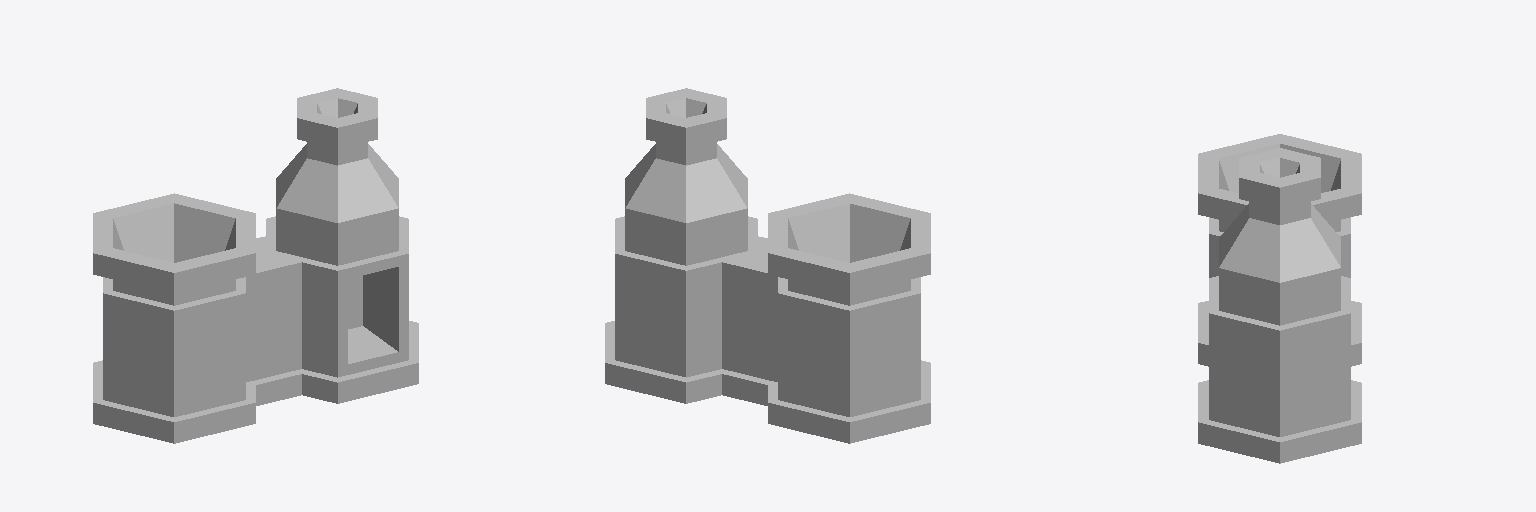
Rendered from radiant_furnace.obj.
3 views of the same model, side by side, from view 1: azimuth 30°, elevation 25°; view 2: azimuth 150°, elevation 25°; view 3: azimuth 270°, elevation 25° (orthographic).
Parts seen in each view (by area): view 1: Cylinder; view 2: Cylinder; view 3: Cylinder.
Boxes of the visible parts, x1=… form: Cylinder: x1=93, y1=88, x2=418, y2=443; Cylinder: x1=605, y1=88, x2=930, y2=443; Cylinder: x1=1198, y1=134, x2=1361, y2=463.
Bounding box in the file's own units: 2 × 1.5 × 0.866.